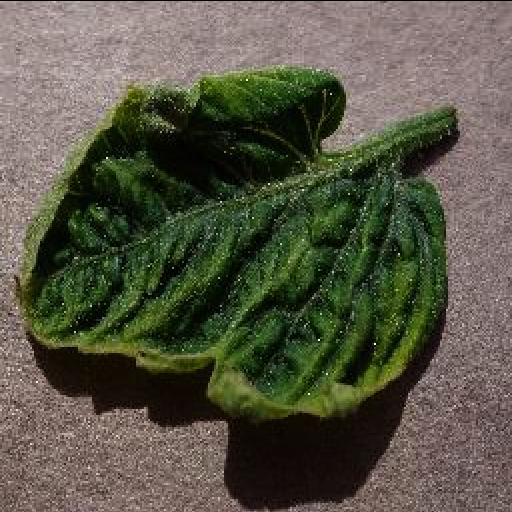disease_tomato: (12, 66, 446, 422)
